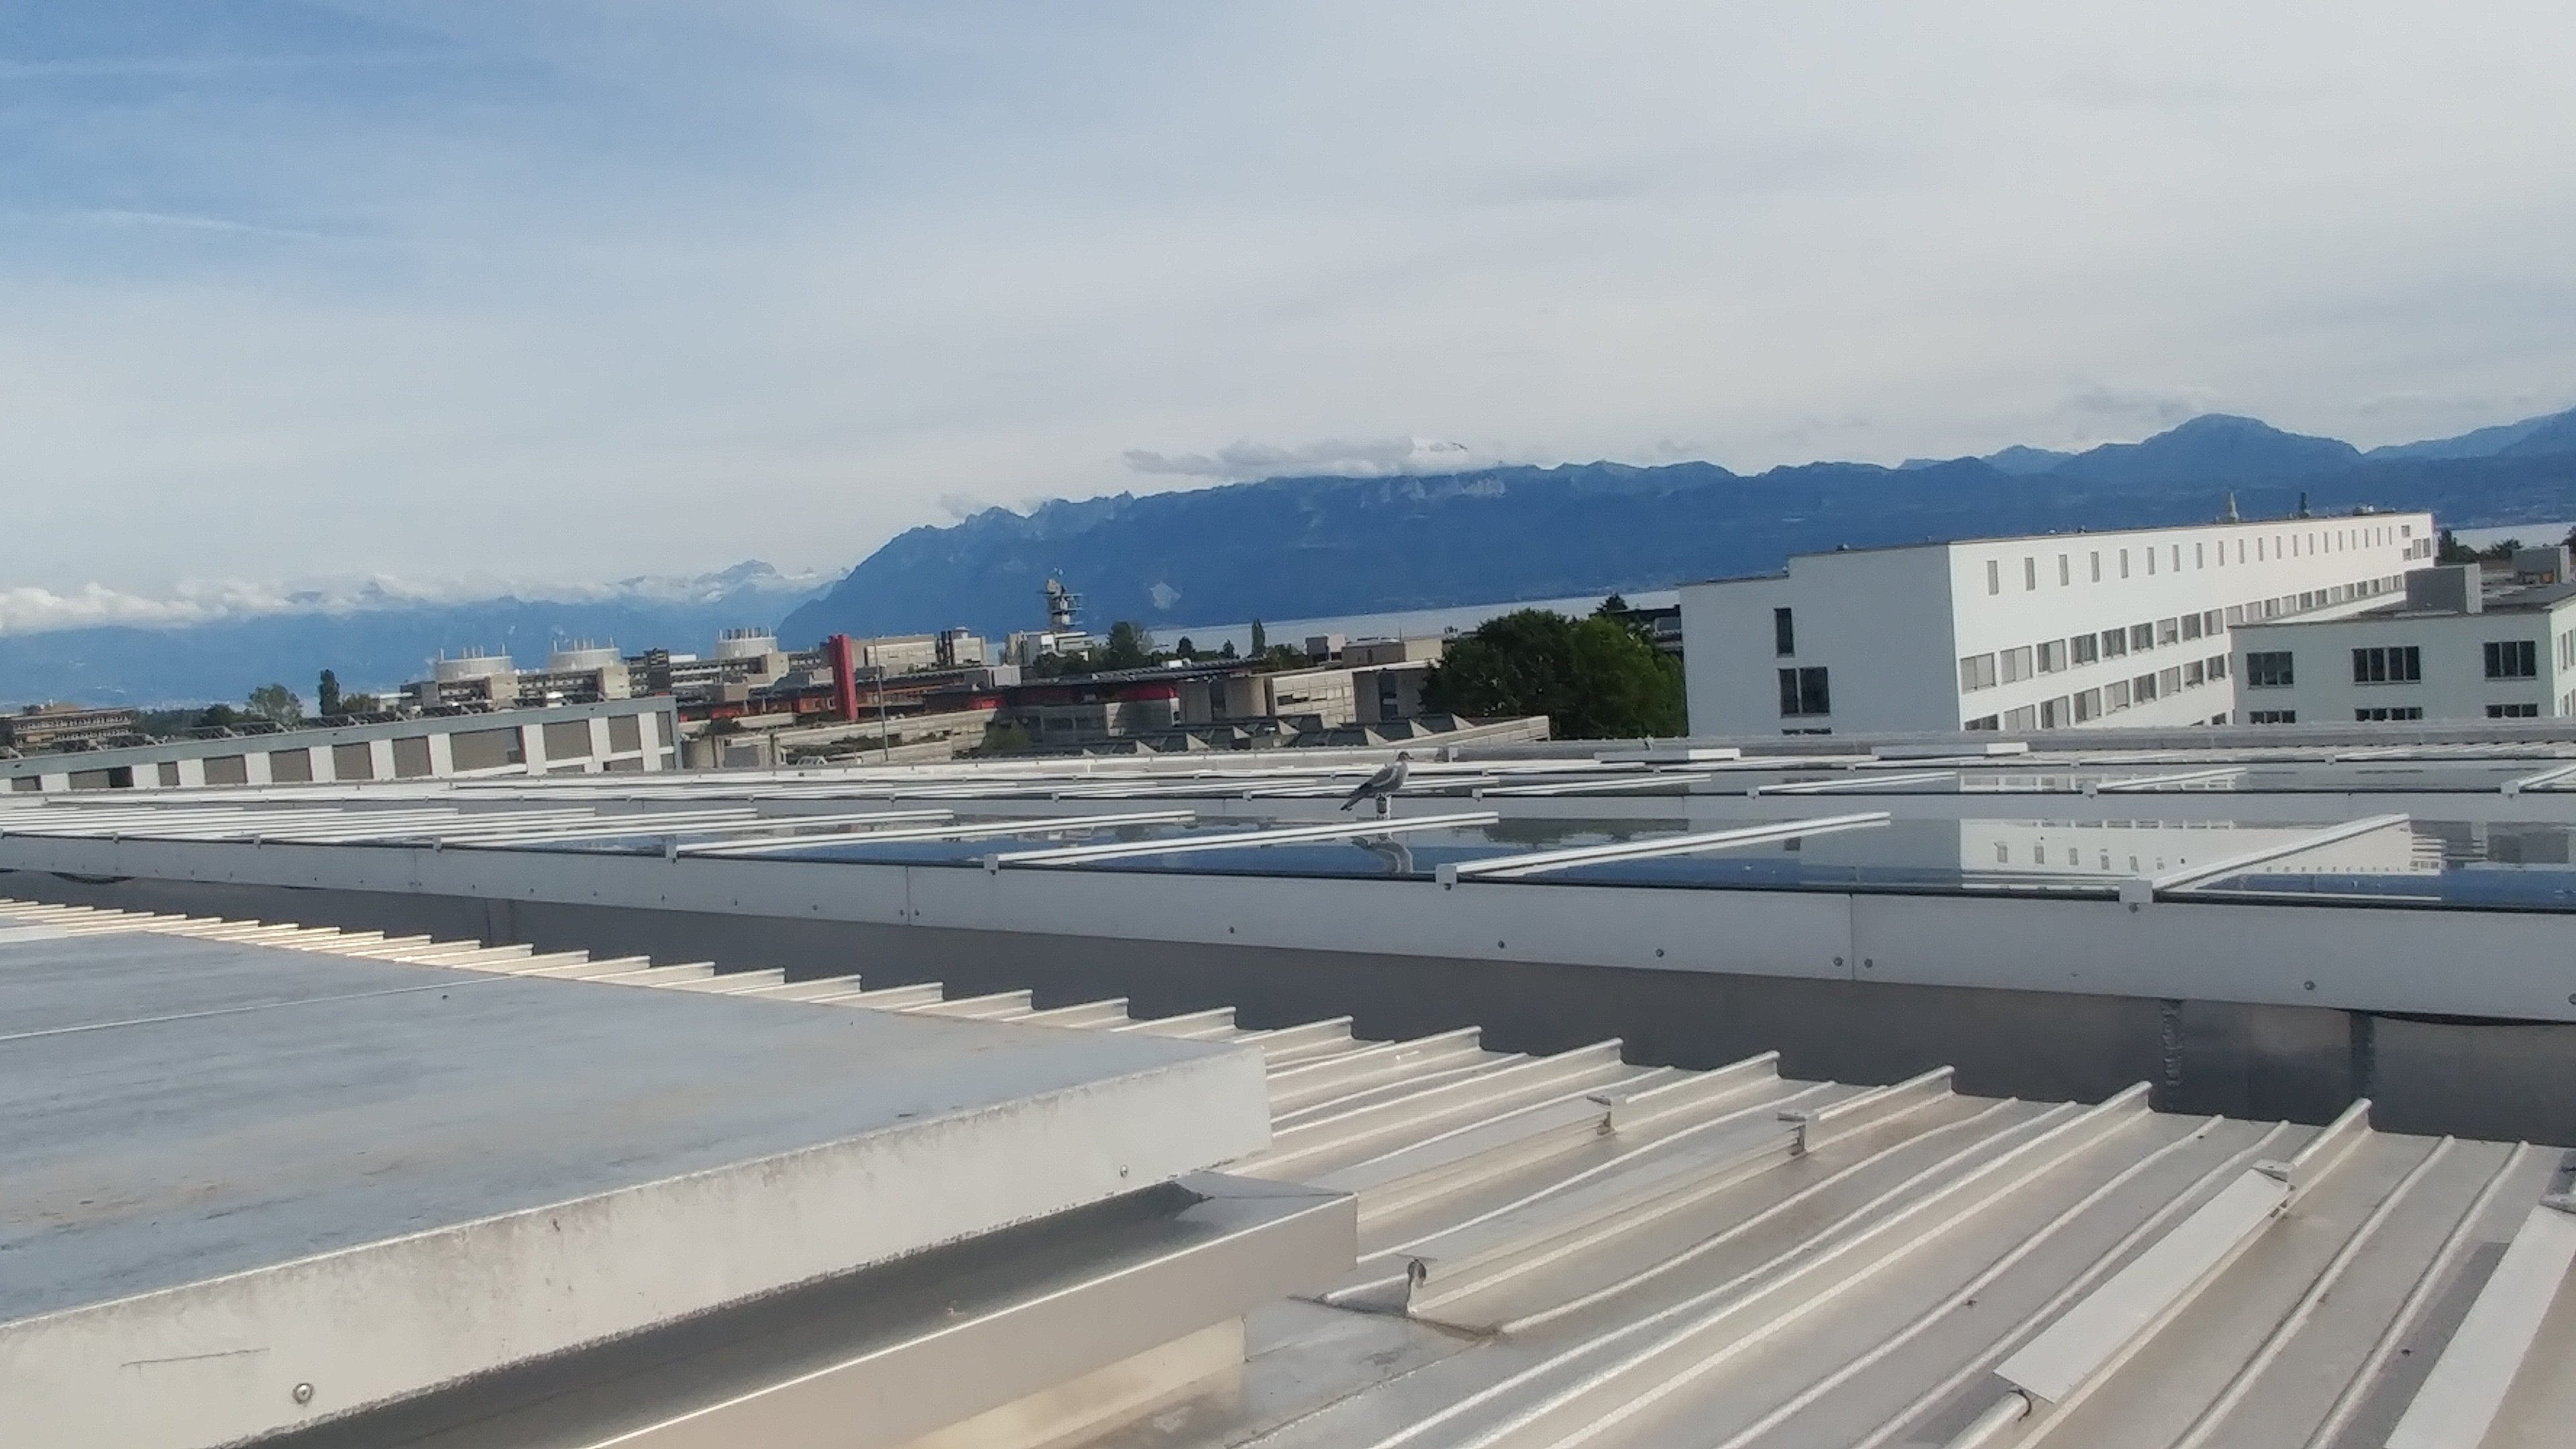Pigeon: (1332, 747, 1415, 823)
